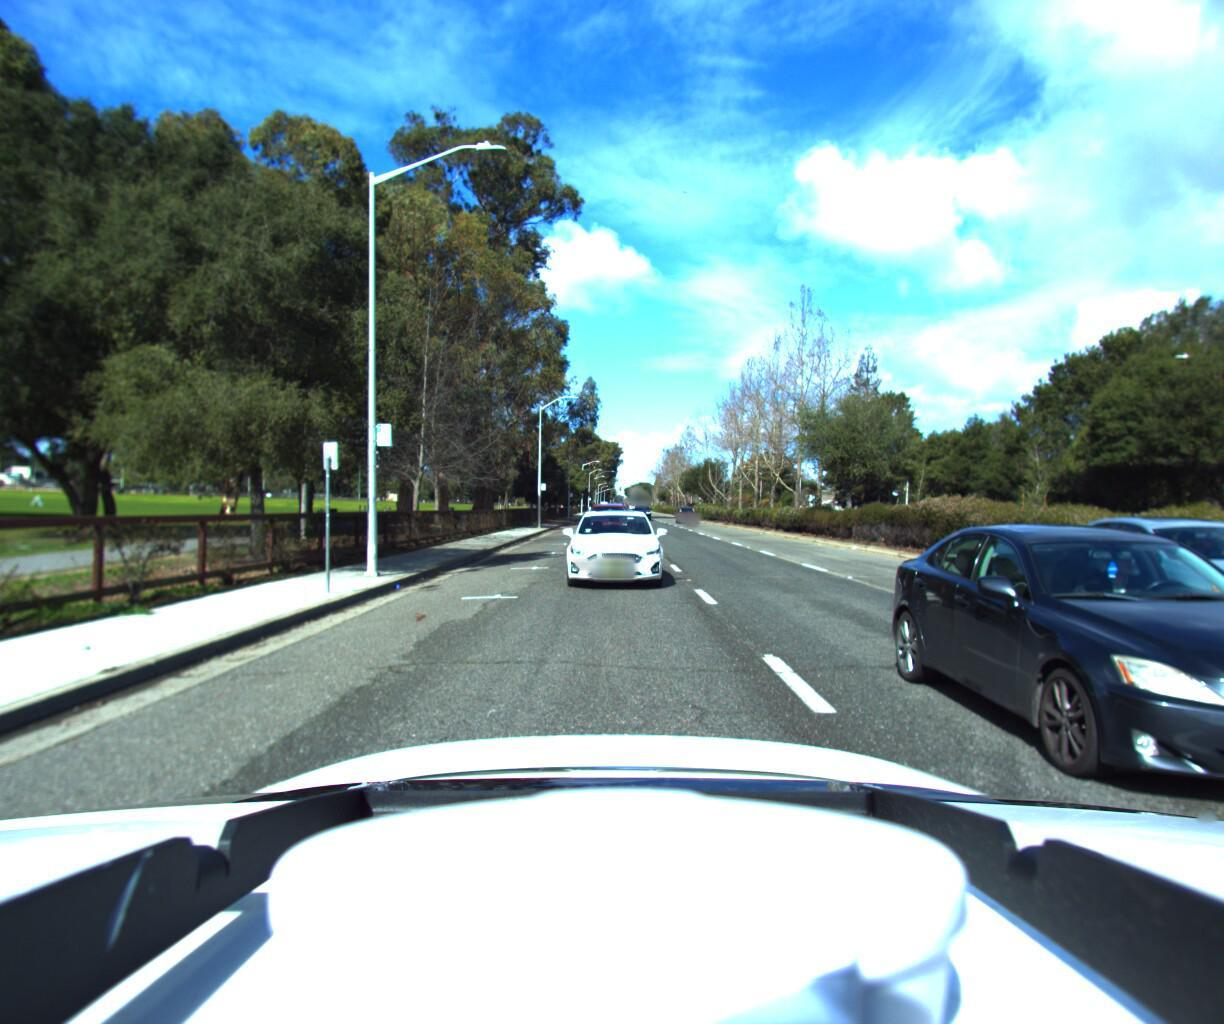car: (920, 515, 1224, 983), (1101, 513, 1224, 694), (557, 507, 667, 591), (582, 501, 634, 545), (674, 504, 700, 524)
